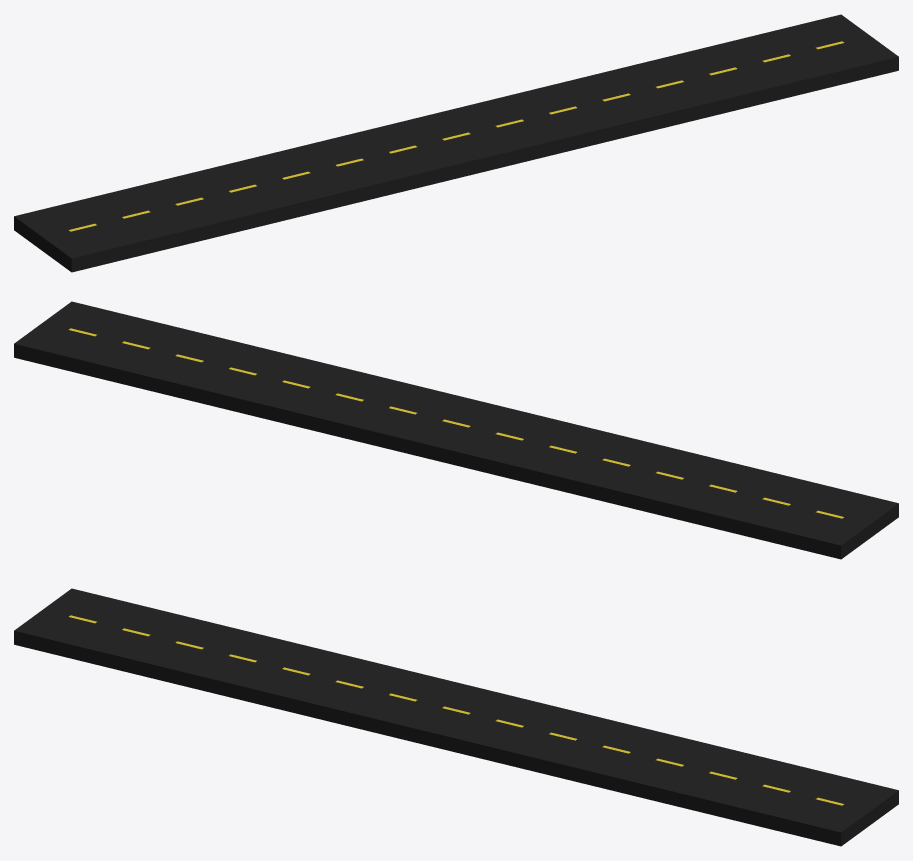
File: Road1.fbx
3 renders of one model, top to bottom at view 1: azimuth 30°, elevation 25°; view 2: azimuth 150°, elevation 25°; view 3: azimuth 330°, elevation 25°, orthographic.
Visible parts, largest first — view 1: Cube; view 2: Cube; view 3: Cube.
Boxes of the visible parts, bbox=[...] form: Cube: bbox=[14, 14, 898, 272]; Cube: bbox=[14, 301, 898, 559]; Cube: bbox=[14, 588, 898, 846].
Size of the model in its own units: 2480 by 40 by 300.
